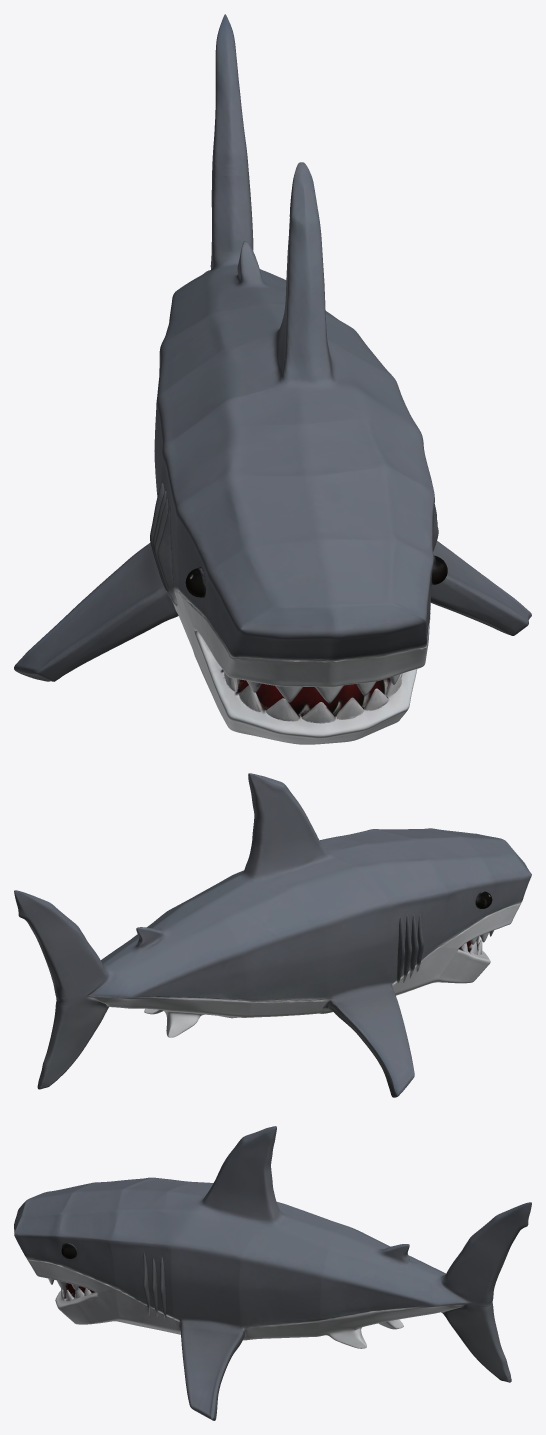
Rendered from fish_mythic_3.glb.
The picture shows the model from 3 angles, top to bottom: view 1: azimuth 30°, elevation 25°; view 2: azimuth 150°, elevation 25°; view 3: azimuth 270°, elevation 25°; orthographic projection. The views are drawn at different scales.
Visible parts, largest first — view 1: tripo_node_47655bea-dc3d-4139-9d29-e624225bbfcb; view 2: tripo_node_47655bea-dc3d-4139-9d29-e624225bbfcb; view 3: tripo_node_47655bea-dc3d-4139-9d29-e624225bbfcb.
Boxes of the visible parts, box(x1,y1,x2,y2) form: tripo_node_47655bea-dc3d-4139-9d29-e624225bbfcb: box(14, 14, 531, 744); tripo_node_47655bea-dc3d-4139-9d29-e624225bbfcb: box(14, 773, 531, 1097); tripo_node_47655bea-dc3d-4139-9d29-e624225bbfcb: box(14, 1126, 531, 1420).
Size of the model in its own units: 0.5259 by 0.5284 by 0.9796.
1 material, 1 textured.
